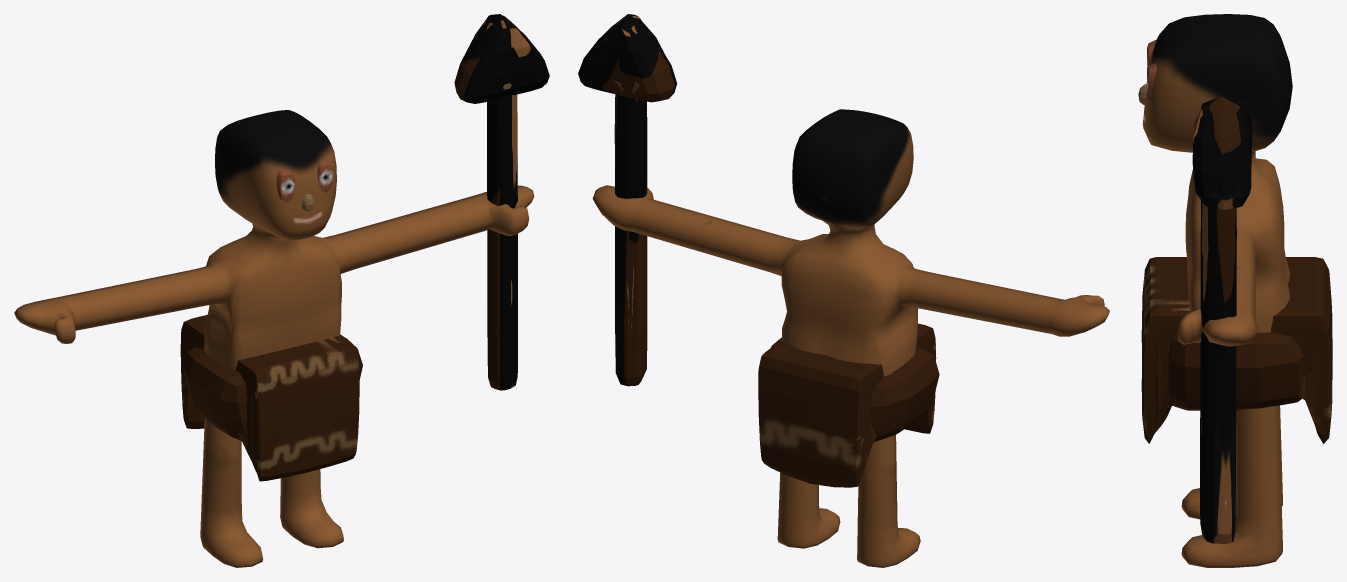
The model's file is MONOLANZA.obj.
3 renders of one model, left to right at view 1: azimuth 30°, elevation 25°; view 2: azimuth 150°, elevation 25°; view 3: azimuth 270°, elevation 25°, orthographic. The views are drawn at different scales.
Visible parts, largest first — view 1: Personaje; view 2: Personaje; view 3: Personaje.
Part boxes in pixels (left/top/right/bottom): Personaje: left=14, top=14, right=549, bottom=567; Personaje: left=578, top=14, right=1109, bottom=567; Personaje: left=1138, top=14, right=1332, bottom=567.
Bounding box in the file's own units: 8.71 × 7.49 × 2.31.
